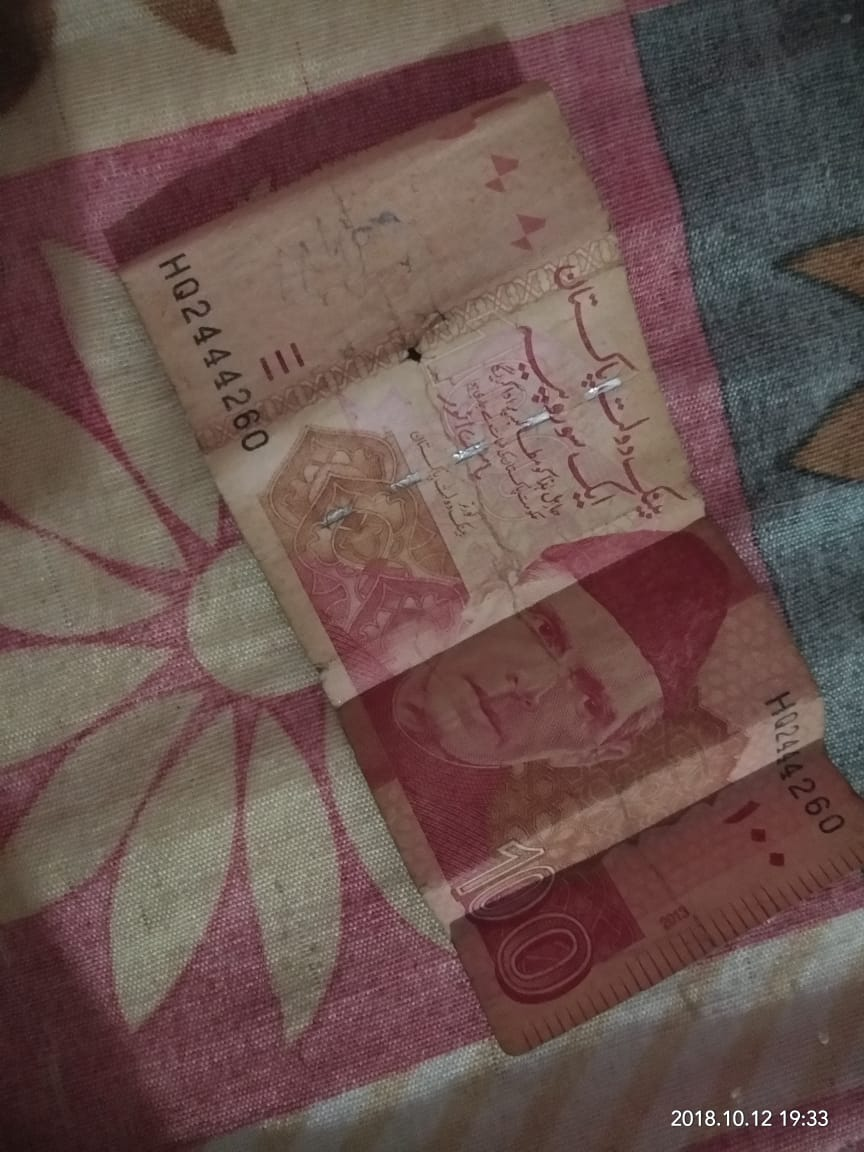100 rupee: (101, 59, 863, 1071)
